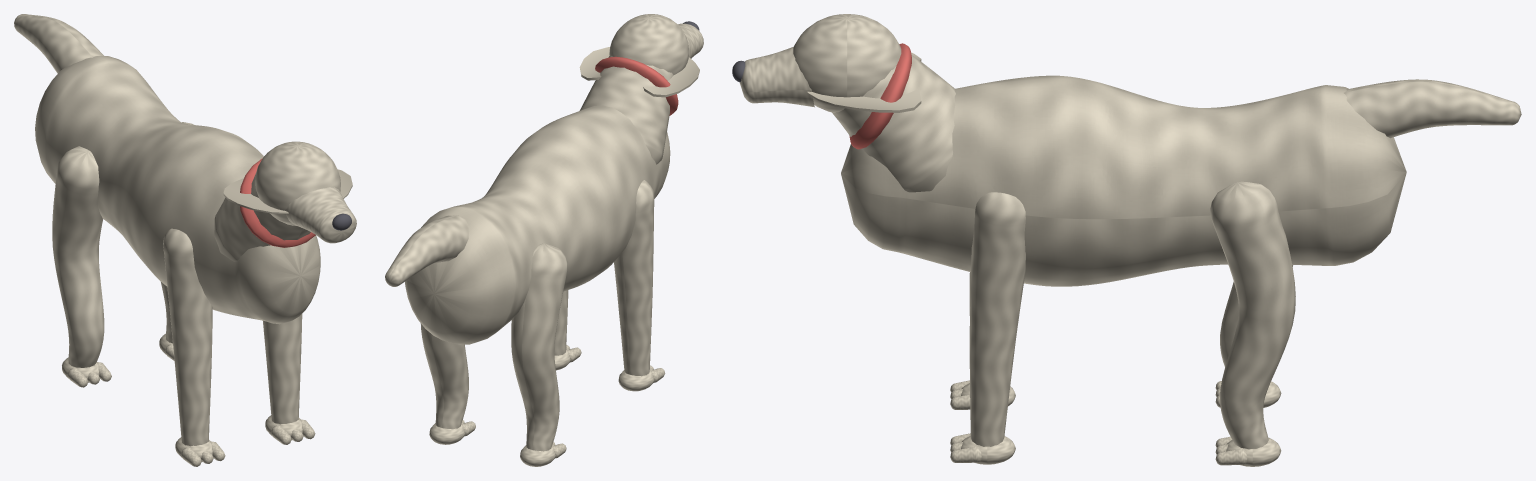
The model's file is dog-labrador.glb.
3 views of the same model, side by side, from view 1: azimuth 30°, elevation 25°; view 2: azimuth 150°, elevation 25°; view 3: azimuth 270°, elevation 25° (orthographic). The views are drawn at different scales.
Visible parts, largest first — view 1: labrador-retriever; view 2: labrador-retriever; view 3: labrador-retriever.
Boxes of the visible parts, <box> form: labrador-retriever: <box>14,14,356,466</box>; labrador-retriever: <box>385,14,703,466</box>; labrador-retriever: <box>732,14,1521,466</box>.
Size of the model in its own units: 0.3028 by 0.6849 by 1.18.
Materials: 3 (1 with a texture image).
